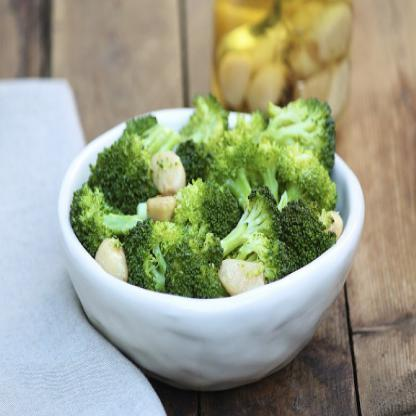broccoli: (69, 95, 342, 298)
